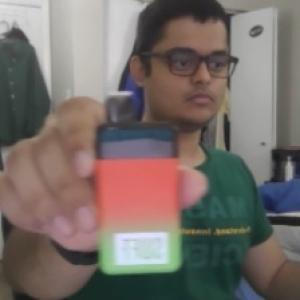Swift-E-Ciggirate: (90, 90, 190, 278)
